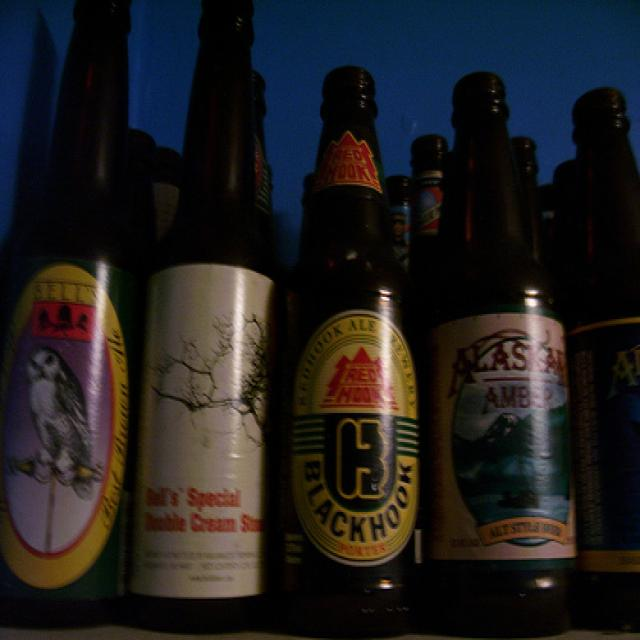Bottle: (5, 0, 140, 609), (430, 45, 553, 632), (176, 0, 286, 618), (303, 25, 402, 617), (556, 62, 640, 640), (398, 80, 456, 313)
